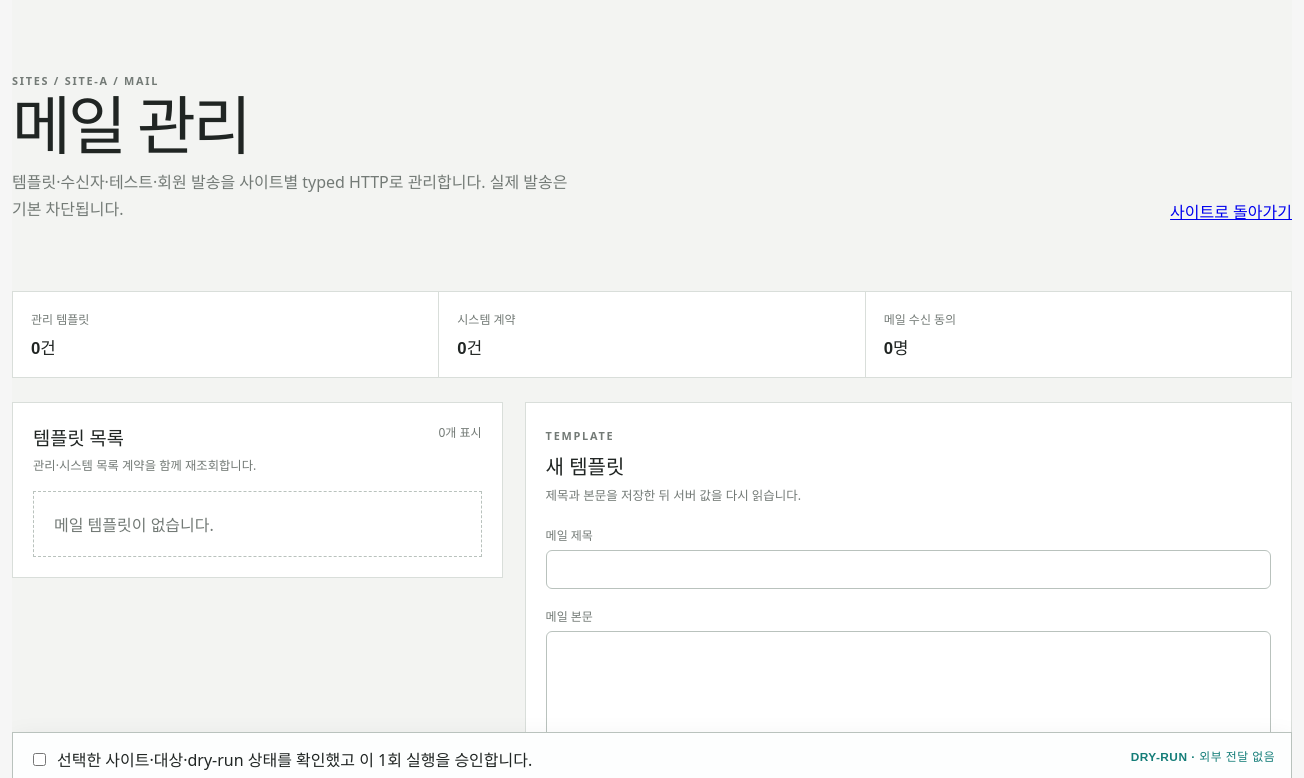
AdminMailsPage › creates a trimmed template and performs server readback
In the field named "새 템플릿 제목": (908, 570) [546,550,1271,589], type " 신규 안내 "
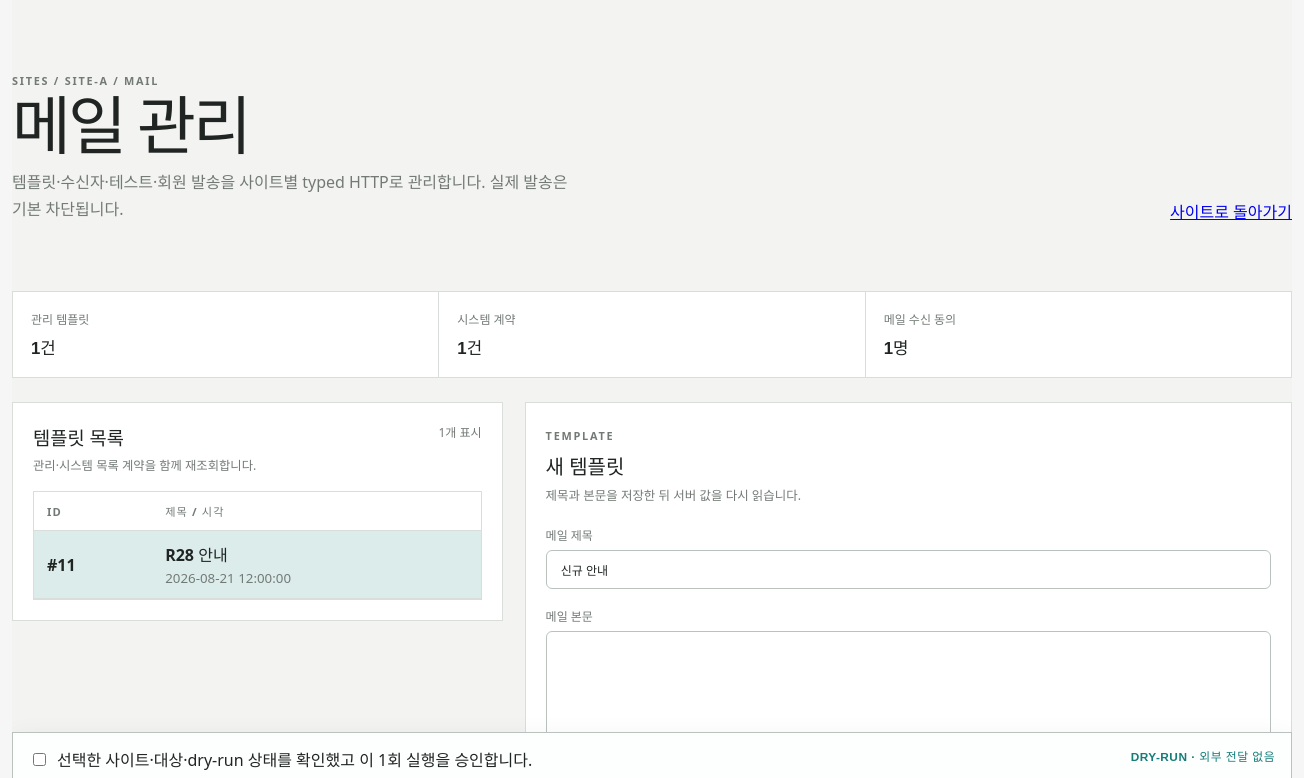
In the text box named "새 템플릿 본문": (908, 693) [546,631,1271,755], type " 새 본문 "
(page scrolled)
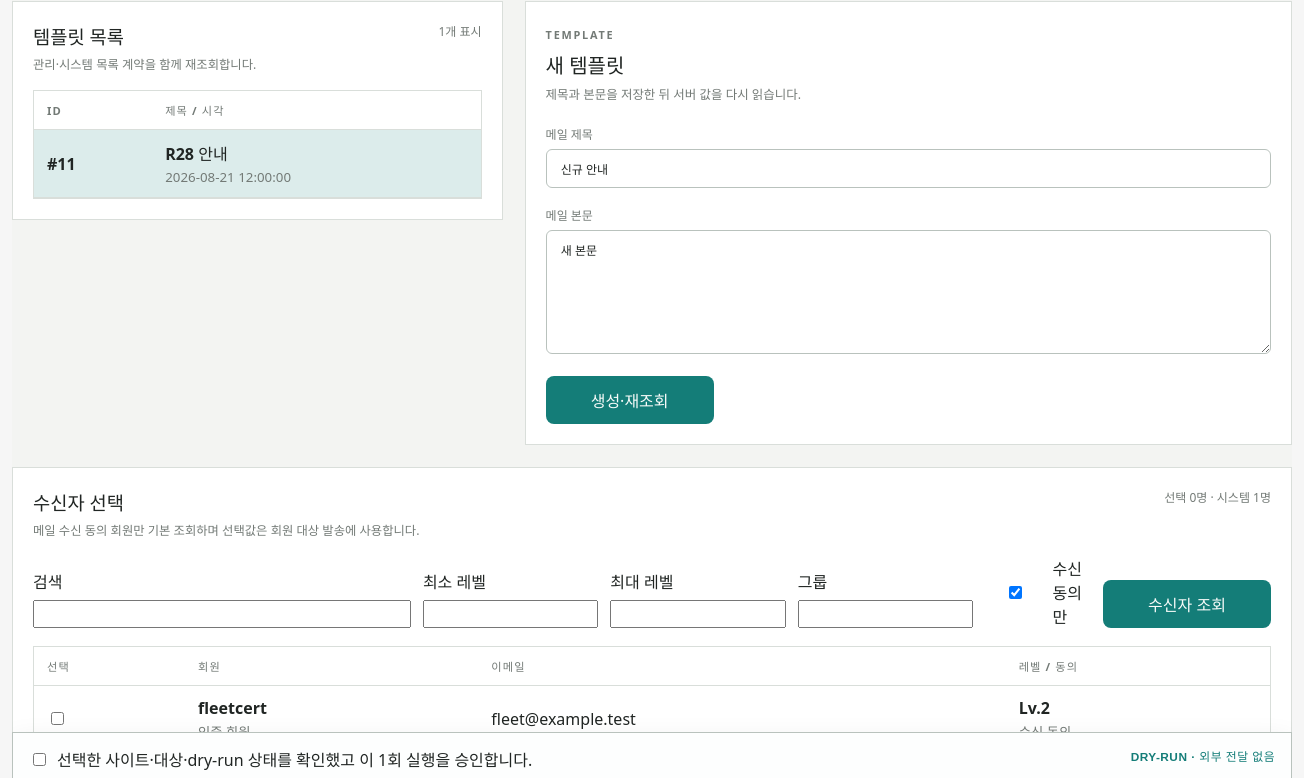
Click the button "생성·재조회": click(630, 400) [546,376,714,424]
(page scrolled)
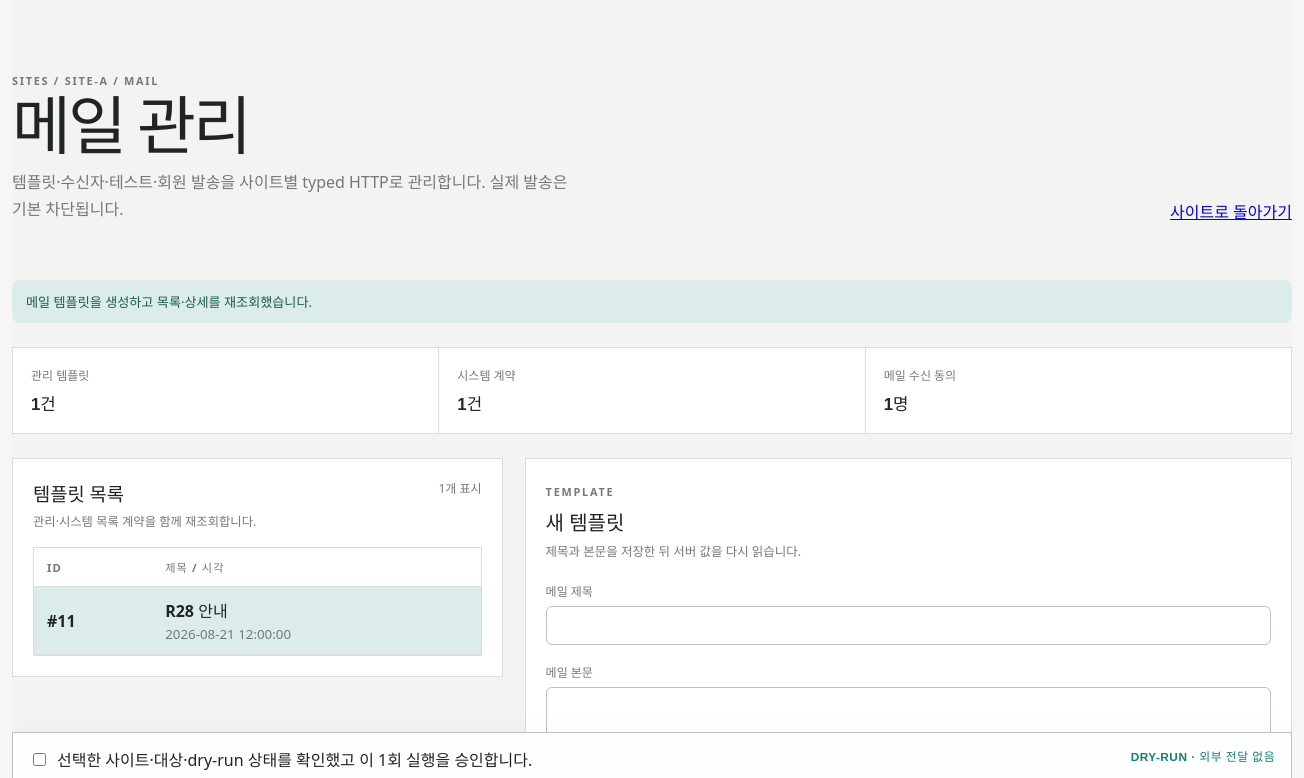
Now the text "메일 템플릿을 생성하고 목록·상세를 재조회했습니다." is shown, box [12,280,1292,323]
